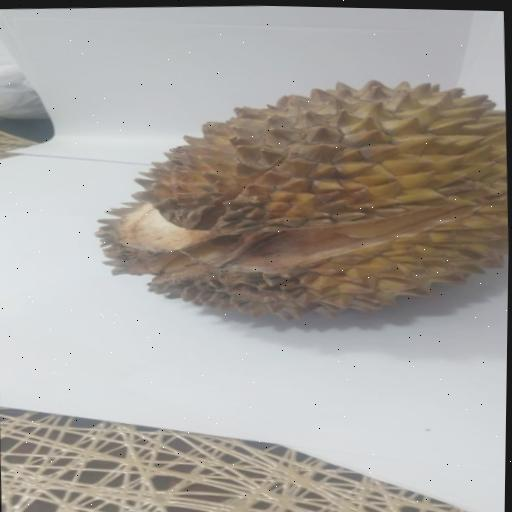rot: (56, 58, 511, 343)
